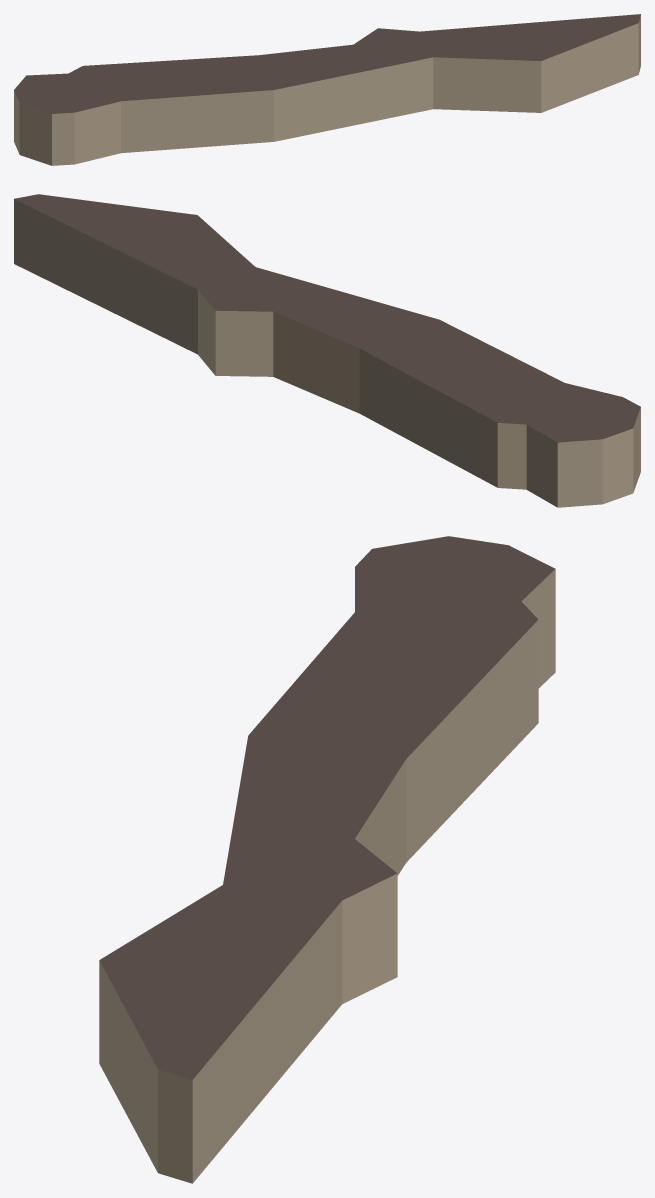
The picture shows the model from 3 angles, top to bottom: view 1: azimuth 30°, elevation 25°; view 2: azimuth 150°, elevation 25°; view 3: azimuth 270°, elevation 25°; orthographic projection. The views are drawn at different scales.
Parts seen in each view (by area): view 1: HP-w808450795; view 2: HP-w808450795; view 3: HP-w808450795.
Part boxes in pixels (<box>): HP-w808450795: <box>14,14,640,165</box>; HP-w808450795: <box>14,194,640,507</box>; HP-w808450795: <box>99,536,555,1183</box>.
Size of the model in its own units: 101 by 9 by 35.86.
